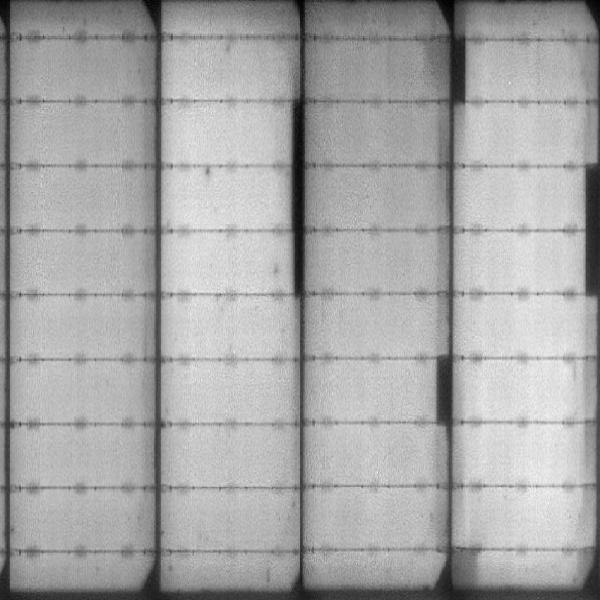black_border: (291, 96, 306, 303), (579, 164, 599, 299), (435, 353, 456, 426), (450, 34, 467, 105)
